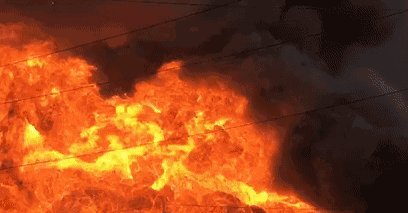fire: (21, 81, 243, 213)
smoke: (284, 17, 405, 198)
